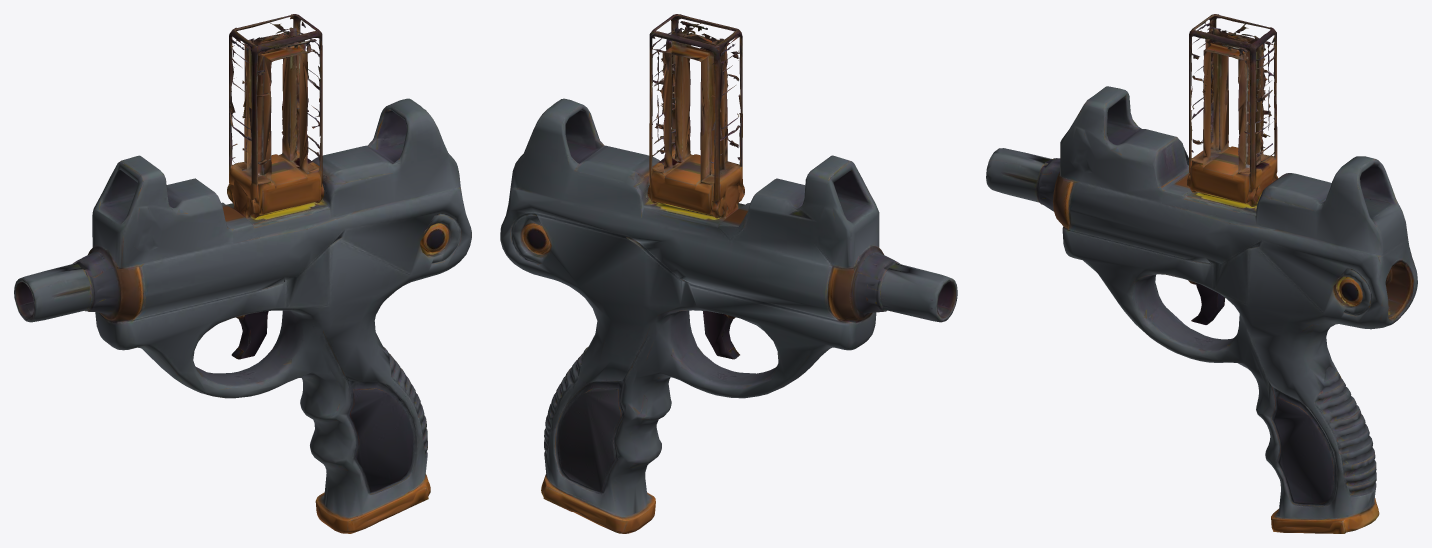
Rendered from smg.glb.
3 renders of one model, left to right at view 1: azimuth 30°, elevation 25°; view 2: azimuth 150°, elevation 25°; view 3: azimuth 330°, elevation 25°, orthographic. The views are drawn at different scales.
Visible parts, largest first — view 1: Mesh_0; view 2: Mesh_0; view 3: Mesh_0.
Boxes of the visible parts, x1,y1,x2,y2 form: Mesh_0: (14,14,471,533); Mesh_0: (500,14,957,533); Mesh_0: (986,14,1417,533).
Bounding box in the file's own units: 1.68 × 1.9 × 0.2903.
Materials: 1 (1 with a texture image).
